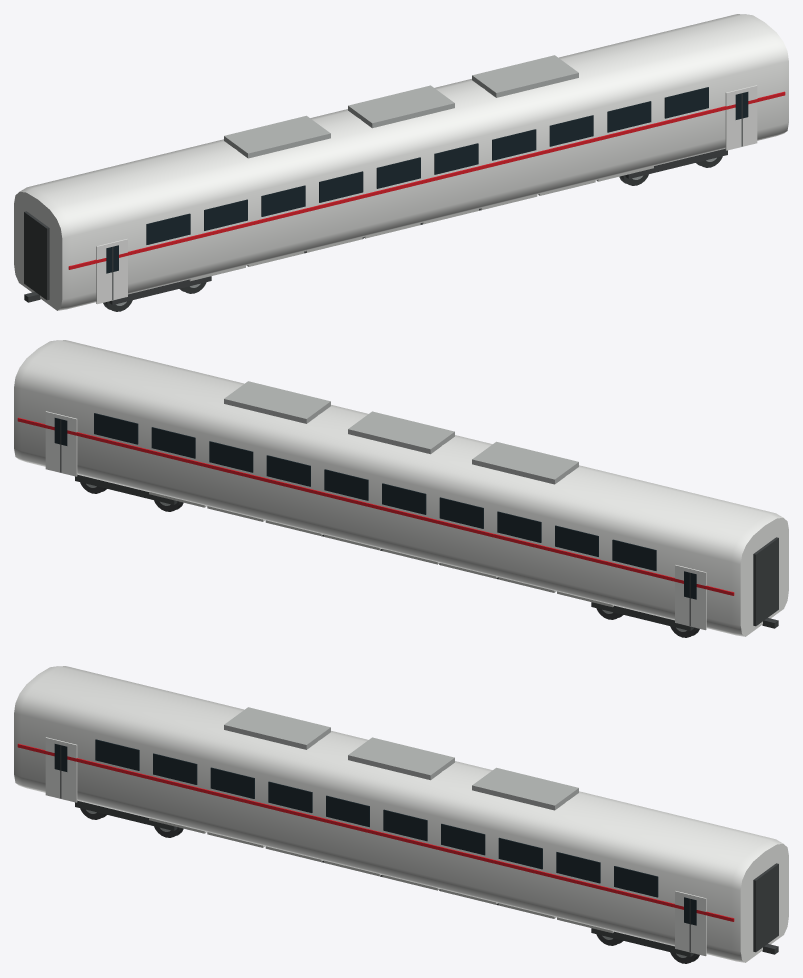
The model's file is ice3-br403-second-converter-403-7.glb.
The picture shows the model from 3 angles, top to bottom: view 1: azimuth 30°, elevation 25°; view 2: azimuth 150°, elevation 25°; view 3: azimuth 330°, elevation 25°; orthographic projection.
Visible parts, largest first — view 1: ice3_second_converter_403_7_lofted_shell, second_converter_403_7_red_belt_-1, second_converter_403_7_roof_power_fairing_0, second_converter_403_7_roof_power_fairing_2, second_converter_403_7_roof_power_fairing_1, second_converter_403_7_gangway_-1, second_converter_403_7_1_door_-1, second_converter_403_7_0_door_-1, second_converter_403_7_05_window_-1, second_converter_403_7_02_window_-1, second_converter_403_7_04_window_-1, second_converter_403_7_06_window_-1 (+8 smaller); view 2: ice3_second_converter_403_7_lofted_shell, second_converter_403_7_red_belt_1, second_converter_403_7_roof_power_fairing_0, second_converter_403_7_roof_power_fairing_2, second_converter_403_7_roof_power_fairing_1, second_converter_403_7_gangway_-1, second_converter_403_7_1_door_1, second_converter_403_7_0_door_1, second_converter_403_7_bogie_1, second_converter_403_7_bogie_0, second_converter_403_7_05_window_1, second_converter_403_7_02_window_1 (+8 smaller); view 3: ice3_second_converter_403_7_lofted_shell, second_converter_403_7_red_belt_-1, second_converter_403_7_roof_power_fairing_0, second_converter_403_7_roof_power_fairing_2, second_converter_403_7_roof_power_fairing_1, second_converter_403_7_gangway_1, second_converter_403_7_0_door_-1, second_converter_403_7_1_door_-1, second_converter_403_7_00_window_-1, second_converter_403_7_05_window_-1, second_converter_403_7_07_window_-1, second_converter_403_7_08_window_-1 (+8 smaller).
Boxes of the visible parts, x1,y1,x2,y2 form: ice3_second_converter_403_7_lofted_shell: (14,14,788,310); second_converter_403_7_red_belt_-1: (68,91,785,269); second_converter_403_7_roof_power_fairing_0: (224,115,330,158); second_converter_403_7_roof_power_fairing_2: (472,55,578,97); second_converter_403_7_roof_power_fairing_1: (348,85,454,128); second_converter_403_7_gangway_-1: (24,211,49,300); second_converter_403_7_1_door_-1: (725,85,757,150); second_converter_403_7_0_door_-1: (96,239,127,304); second_converter_403_7_05_window_-1: (434,143,478,174); second_converter_403_7_02_window_-1: (261,185,305,216); second_converter_403_7_04_window_-1: (376,157,420,188); second_converter_403_7_06_window_-1: (492,129,536,160); ice3_second_converter_403_7_lofted_shell: (14,340,788,636); second_converter_403_7_red_belt_1: (17,417,734,595); second_converter_403_7_roof_power_fairing_0: (472,441,578,484); second_converter_403_7_roof_power_fairing_2: (224,381,330,423); second_converter_403_7_roof_power_fairing_1: (348,411,454,454); second_converter_403_7_gangway_-1: (753,537,778,626); second_converter_403_7_1_door_1: (45,411,77,476); second_converter_403_7_0_door_1: (675,565,706,630); second_converter_403_7_bogie_1: (75,474,183,511); second_converter_403_7_bogie_0: (591,602,699,637); second_converter_403_7_05_window_1: (324,469,368,500); second_converter_403_7_02_window_1: (497,511,541,542); ice3_second_converter_403_7_lofted_shell: (14,666,788,962); second_converter_403_7_red_belt_-1: (17,743,734,921); second_converter_403_7_roof_power_fairing_0: (224,707,330,749); second_converter_403_7_roof_power_fairing_2: (472,767,578,810); second_converter_403_7_roof_power_fairing_1: (348,737,454,780); second_converter_403_7_gangway_1: (753,863,778,952); second_converter_403_7_0_door_-1: (45,737,77,802); second_converter_403_7_1_door_-1: (675,891,706,956); second_converter_403_7_00_window_-1: (95,739,139,770); second_converter_403_7_05_window_-1: (383,809,427,841); second_converter_403_7_07_window_-1: (498,837,542,869); second_converter_403_7_08_window_-1: (556,852,600,883).
Bounding box in the file's own units: 25.4 × 4.07 × 3.05.
